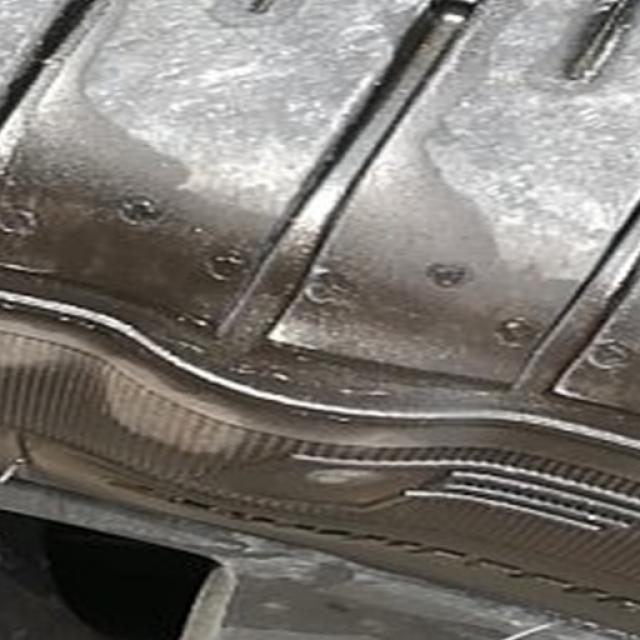Bulge: (53, 286, 402, 508)
